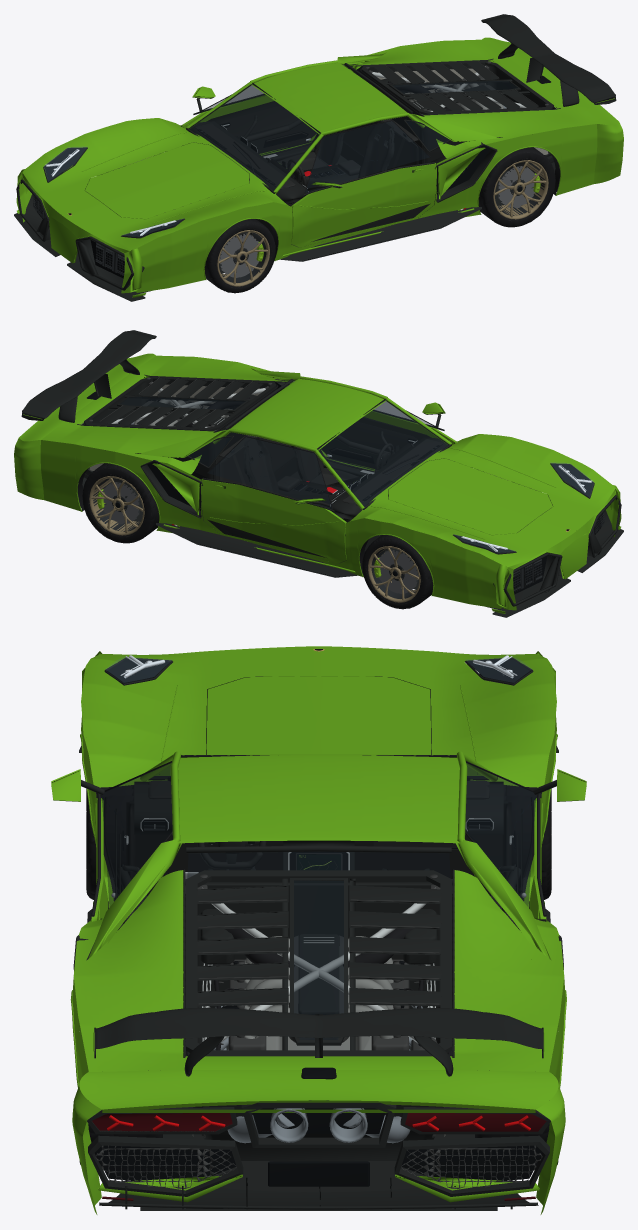
The model's file is preview.glb.
The picture shows the model from 3 angles, top to bottom: view 1: azimuth 30°, elevation 25°; view 2: azimuth 150°, elevation 25°; view 3: azimuth 270°, elevation 25°; orthographic projection. The views are drawn at different scales.
Visible parts, largest first — view 1: preview_paint_1, preview_carbon_0, preview_paint_0, preview_glass_0, preview_alcantara_0, preview_rubber_0, preview_alloy_0, preview_black_0, preview_dark_metal_0, preview_brake_0, preview_leather_0, preview_lamp_black_0 (+2 smaller); view 2: preview_paint_0, preview_carbon_0, preview_paint_1, preview_glass_0, preview_alcantara_0, preview_rubber_0, preview_alloy_0, preview_black_0, preview_dark_metal_0, preview_brake_0, preview_leather_0, preview_lamp_black_0 (+2 smaller); view 3: preview_paint_0, preview_carbon_0, preview_paint_1, preview_glass_0, preview_black_0, preview_engine_dark_0, preview_rubber_0, preview_carpet_0, preview_tail_lens_0, preview_exhaust_titanium_0, preview_bay_cast_0, preview_engine_alloy_0 (+4 smaller).
Boxes of the visible parts, bbox=[...] form: preview_paint_1: bbox=[16, 118, 597, 297]; preview_carbon_0: bbox=[14, 14, 616, 301]; preview_paint_0: bbox=[19, 37, 623, 243]; preview_glass_0: bbox=[189, 64, 517, 192]; preview_alcantara_0: bbox=[194, 105, 418, 189]; preview_rubber_0: bbox=[85, 68, 560, 293]; preview_alloy_0: bbox=[130, 157, 548, 286]; preview_black_0: bbox=[35, 66, 550, 278]; preview_dark_metal_0: bbox=[33, 130, 544, 282]; preview_brake_0: bbox=[136, 159, 535, 277]; preview_leather_0: bbox=[266, 121, 391, 181]; preview_lamp_black_0: bbox=[44, 148, 182, 237]; preview_paint_0: bbox=[14, 353, 516, 610]; preview_carbon_0: bbox=[21, 330, 623, 617]; preview_paint_1: bbox=[251, 368, 621, 613]; preview_glass_0: bbox=[120, 380, 448, 508]; preview_alcantara_0: bbox=[219, 421, 443, 505]; preview_rubber_0: bbox=[77, 384, 552, 609]; preview_alloy_0: bbox=[89, 473, 507, 602]; preview_black_0: bbox=[87, 382, 602, 594]; preview_dark_metal_0: bbox=[93, 447, 604, 598]; preview_brake_0: bbox=[102, 475, 501, 593]; preview_leather_0: bbox=[246, 437, 388, 494]; preview_lamp_black_0: bbox=[455, 464, 593, 553]; preview_paint_0: bbox=[51, 657, 586, 1214]; preview_carbon_0: bbox=[53, 657, 584, 1210]; preview_paint_1: bbox=[70, 646, 556, 1132]; preview_glass_0: bbox=[102, 762, 535, 1039]; preview_black_0: bbox=[95, 673, 542, 1186]; preview_engine_dark_0: bbox=[95, 874, 542, 1188]; preview_rubber_0: bbox=[79, 690, 558, 1169]; preview_carpet_0: bbox=[126, 802, 511, 894]; preview_tail_lens_0: bbox=[92, 1113, 546, 1200]; preview_exhaust_titanium_0: bbox=[213, 1005, 422, 1143]; preview_bay_cast_0: bbox=[244, 936, 393, 1050]; preview_engine_alloy_0: bbox=[111, 887, 526, 1042].
Bounding box in the file's own units: 4.94 × 1.14 × 2.27.
